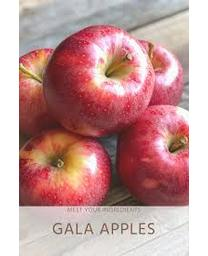apple: (42, 24, 155, 139), (115, 104, 188, 204), (18, 129, 111, 206), (19, 47, 57, 137), (137, 39, 183, 103)
